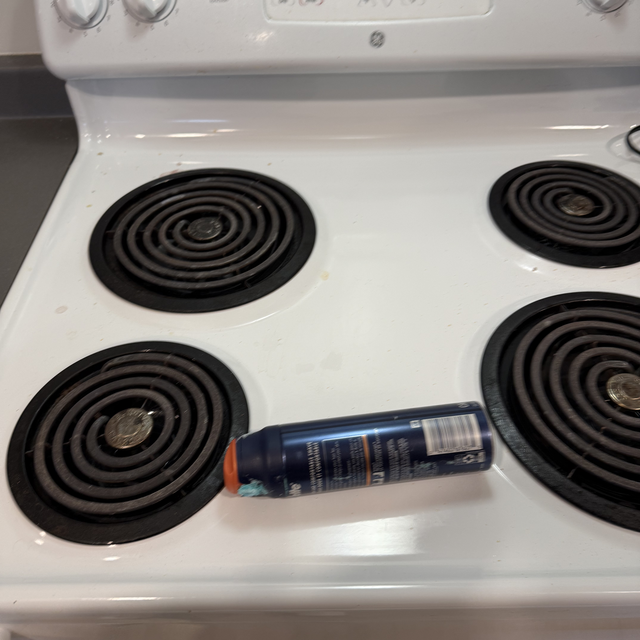Aerosol: (226, 397, 501, 486)
Stove: (0, 0, 640, 640)
